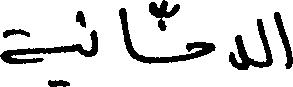X: (0, 7, 77, 86), (273, 7, 292, 73), (118, 3, 133, 63), (256, 14, 271, 72), (229, 30, 248, 74), (186, 37, 213, 64), (91, 25, 96, 61)
